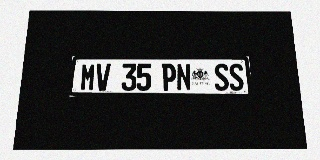3: (121, 63, 136, 91)
5: (136, 63, 151, 91)
M: (80, 63, 96, 91)
N: (176, 63, 191, 91)
P: (162, 63, 176, 91)
S: (228, 64, 244, 91), (214, 64, 229, 91)
V: (95, 63, 111, 91)
